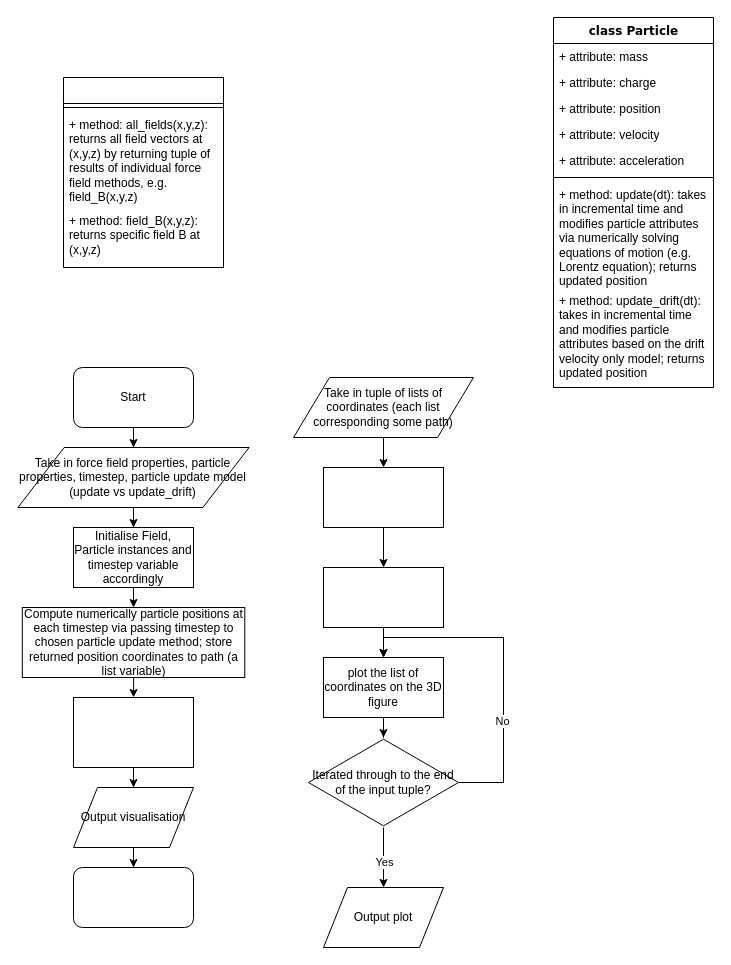
Image size: 731x965. Some labels were removed from this diagram. The box of each missing label's shape, as (x1, y1, x2, y2) in pixels:
class Field: (62, 76, 224, 268)
End: (72, 866, 194, 928)
for loop through each list in the input tuple: (322, 566, 444, 628)
Generate path visualisation via calling visualisation(path): (72, 696, 194, 768)
Initialise new matplotlib 3D figure: (322, 466, 444, 528)
